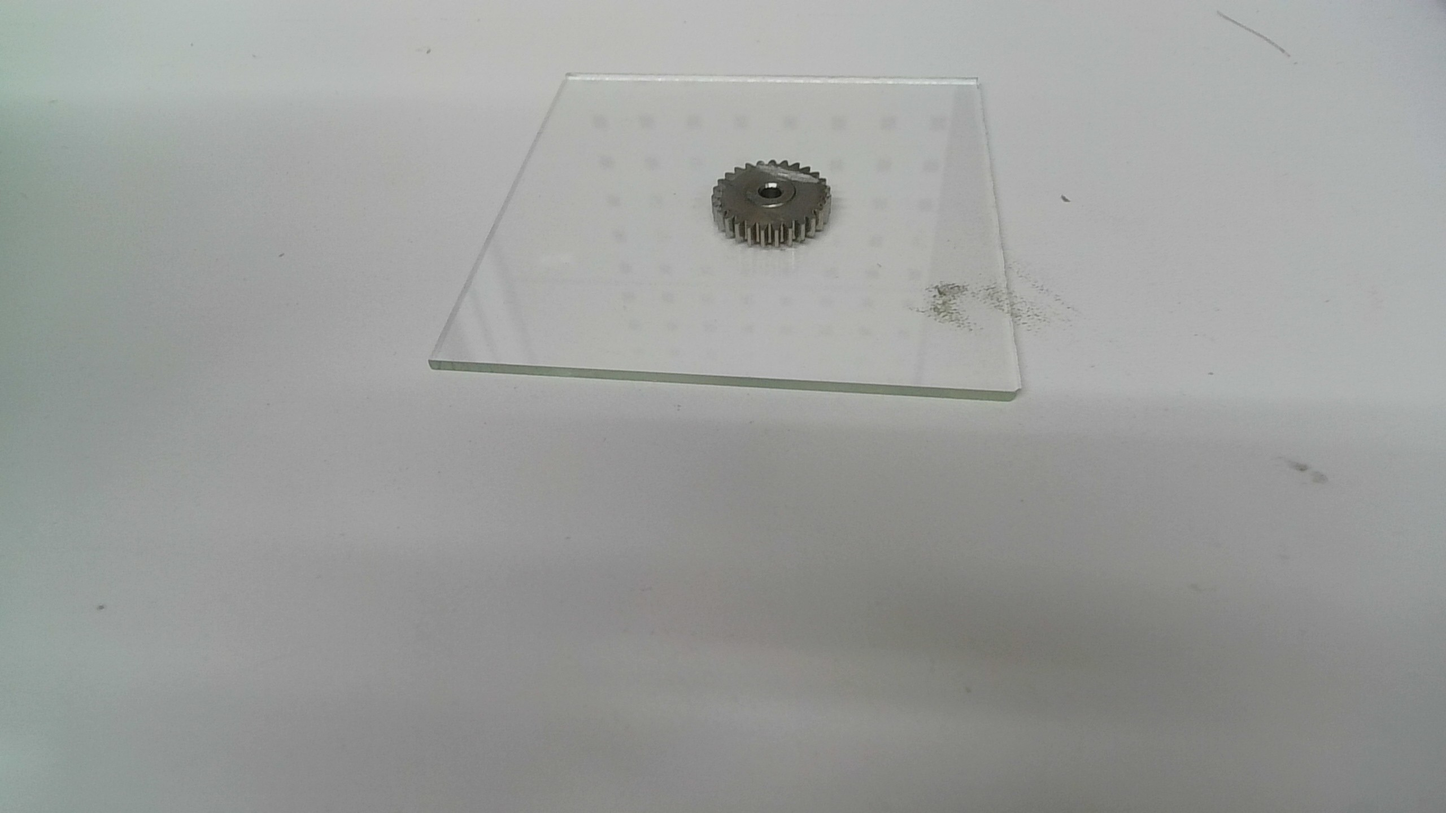gear: (709, 158, 833, 250)
